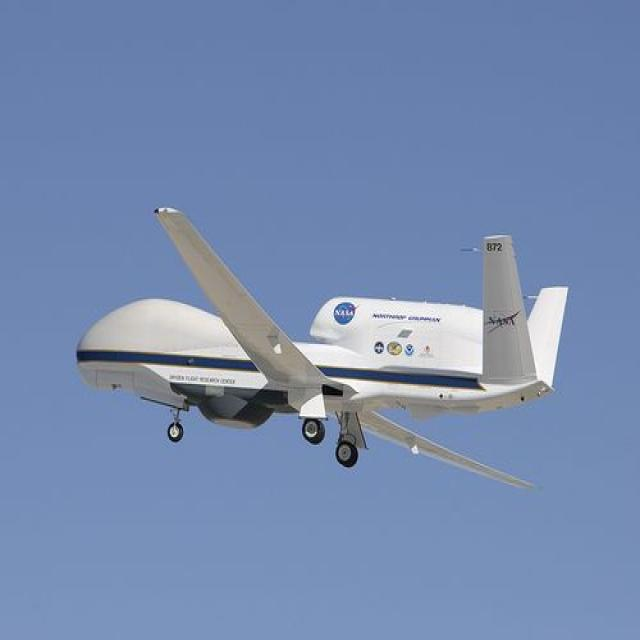iha: (71, 199, 572, 500)
